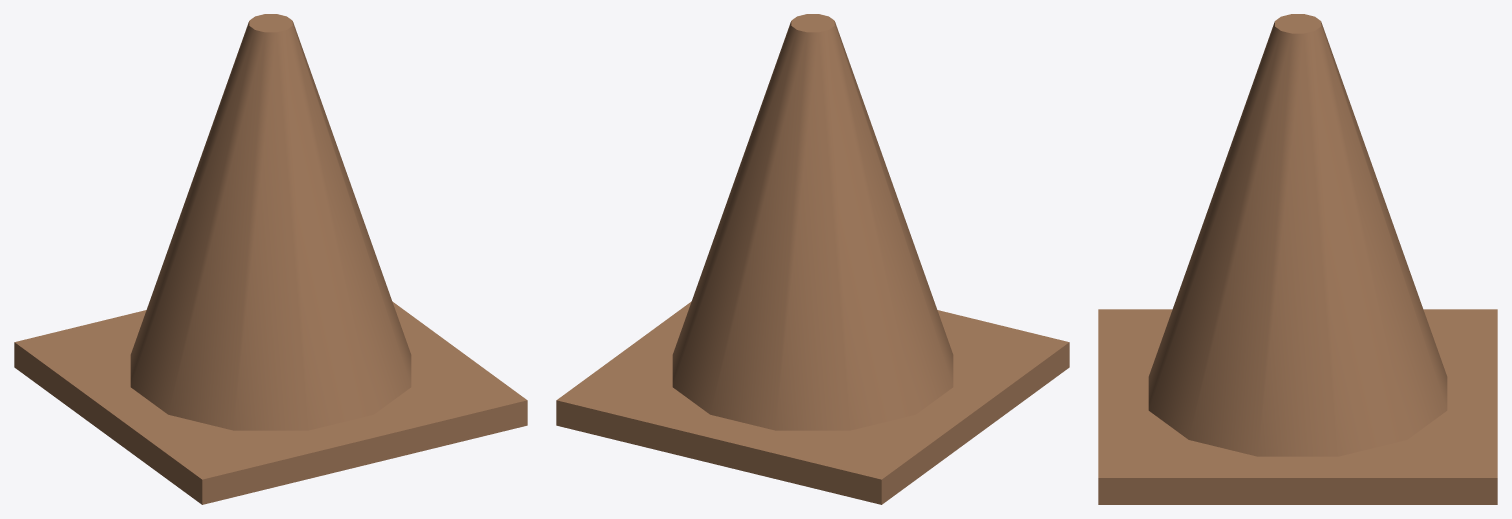
The model's file is trafficCone.0002.fbx.
3 renders of one model, left to right at view 1: azimuth 30°, elevation 25°; view 2: azimuth 150°, elevation 25°; view 3: azimuth 270°, elevation 25°, orthographic. The views are drawn at different scales.
Parts seen in each view (by area): view 1: trafficCone_GEO2; view 2: trafficCone_GEO2; view 3: trafficCone_GEO2.
Boxes of the visible parts, left/top/right/bottom form: trafficCone_GEO2: left=14, top=14, right=527, bottom=504; trafficCone_GEO2: left=556, top=14, right=1069, bottom=504; trafficCone_GEO2: left=1098, top=14, right=1497, bottom=504.
Size of the model in its own units: 0.1818 by 0.1994 by 0.1818.
